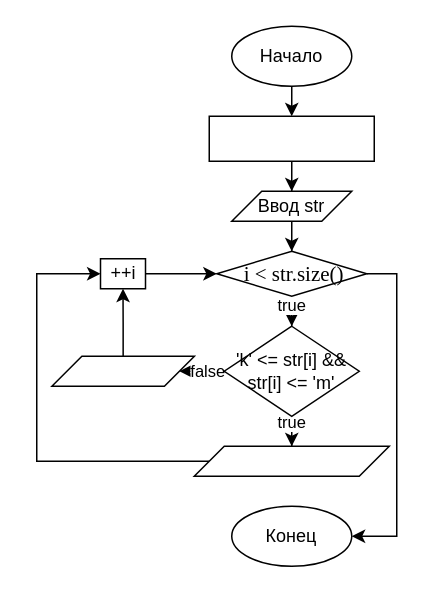
Some shapes in this 435 by 593 pixel diagram are drawn without their labels. Each missing label, with the centre of its shape:
Вывод str[i]: the point at 122,370
Вывод str[i] - 32: the point at 291,460
Строка str Целое число i = 0: the point at 291,138
